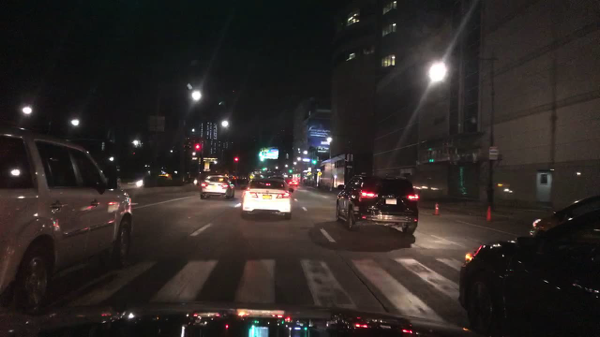car: (1, 126, 137, 308), (456, 196, 599, 335), (334, 174, 419, 237), (240, 176, 294, 221), (109, 167, 151, 191), (198, 175, 235, 202), (282, 176, 300, 189), (158, 171, 174, 185), (182, 175, 199, 188), (227, 174, 238, 188), (267, 175, 284, 182), (236, 176, 246, 185)
traffic light: (194, 143, 201, 152), (233, 156, 241, 162), (312, 158, 318, 166), (288, 168, 294, 175), (260, 167, 268, 172)
traffic sign: (147, 114, 166, 133), (488, 145, 498, 161), (316, 171, 322, 178), (307, 167, 313, 173)
